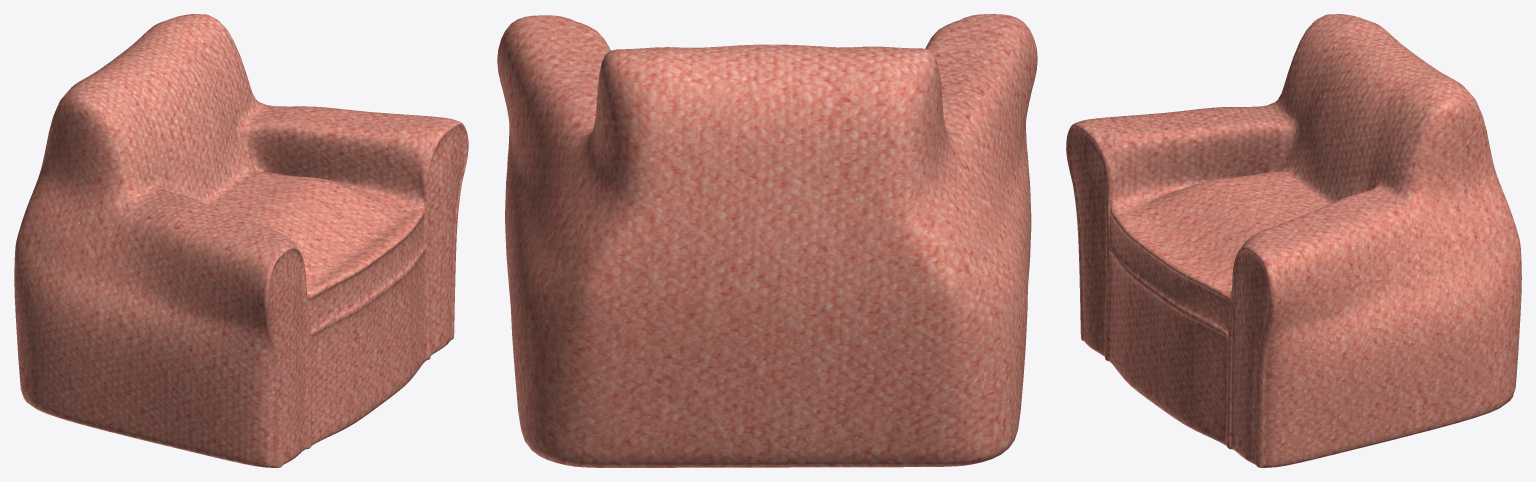
File: mérida.gltf
3 renders of one model, left to right at view 1: azimuth 30°, elevation 25°; view 2: azimuth 150°, elevation 25°; view 3: azimuth 270°, elevation 25°, orthographic. The views are drawn at different scales.
Visible parts, largest first — view 1: Cube.026; view 2: Cube.026; view 3: Cube.026.
Part boxes in pixels (left/top/right/bottom): Cube.026: left=14, top=14, right=468, bottom=467; Cube.026: left=497, top=14, right=1037, bottom=467; Cube.026: left=1066, top=14, right=1521, bottom=467.
Bounding box in the file's own units: 5.15 × 3.54 × 4.93.
1 material, 1 textured.
